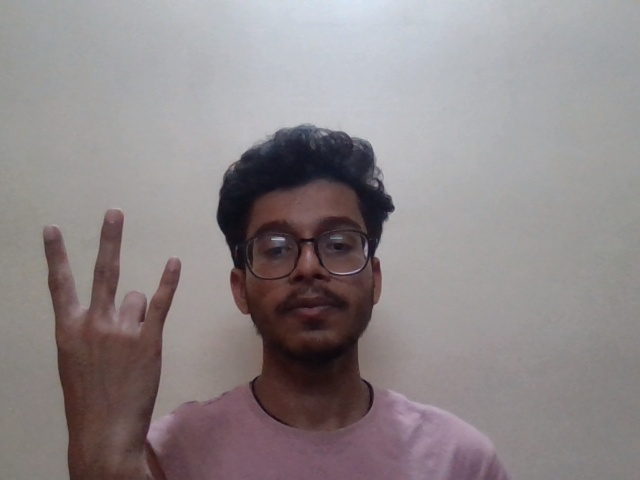why: (43, 206, 195, 410)
